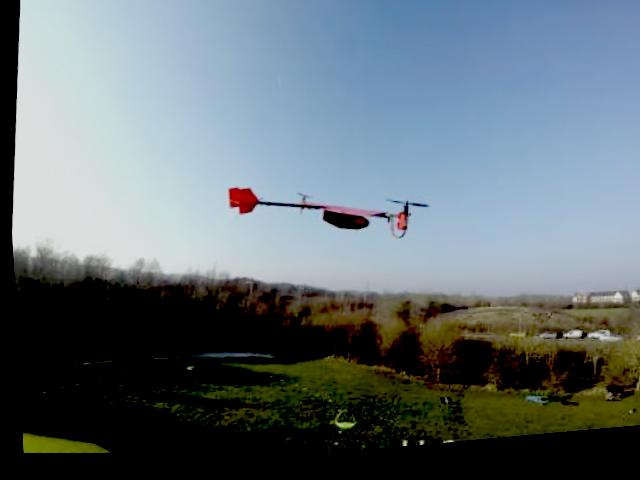uav: (211, 169, 438, 262)
